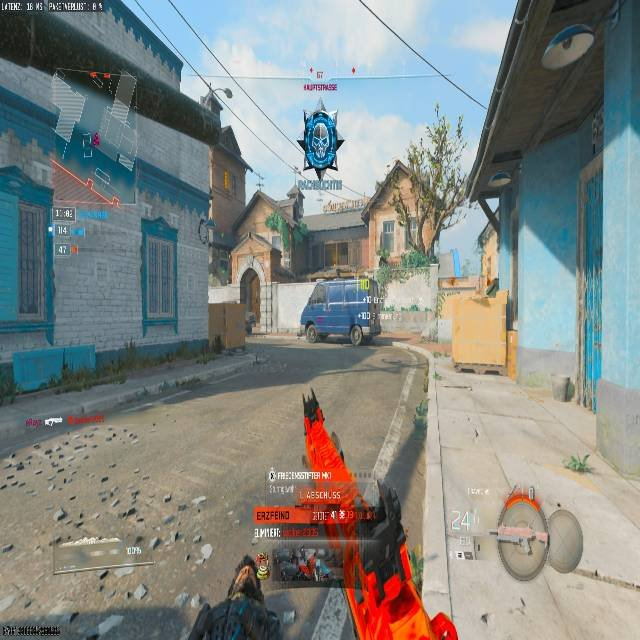player: (246, 312, 256, 335)
